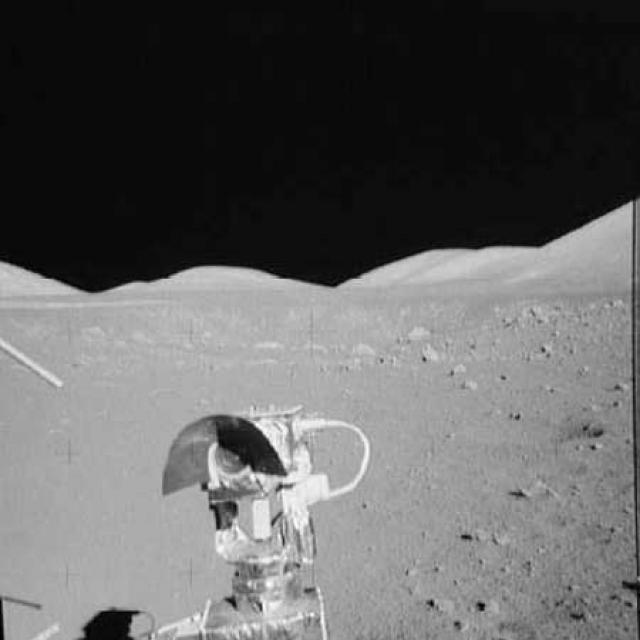artifact: (140, 400, 378, 638), (0, 337, 64, 396)
crater: (68, 298, 485, 346), (444, 410, 604, 447)
rock: (509, 476, 560, 501), (403, 326, 429, 342), (419, 345, 438, 362)
